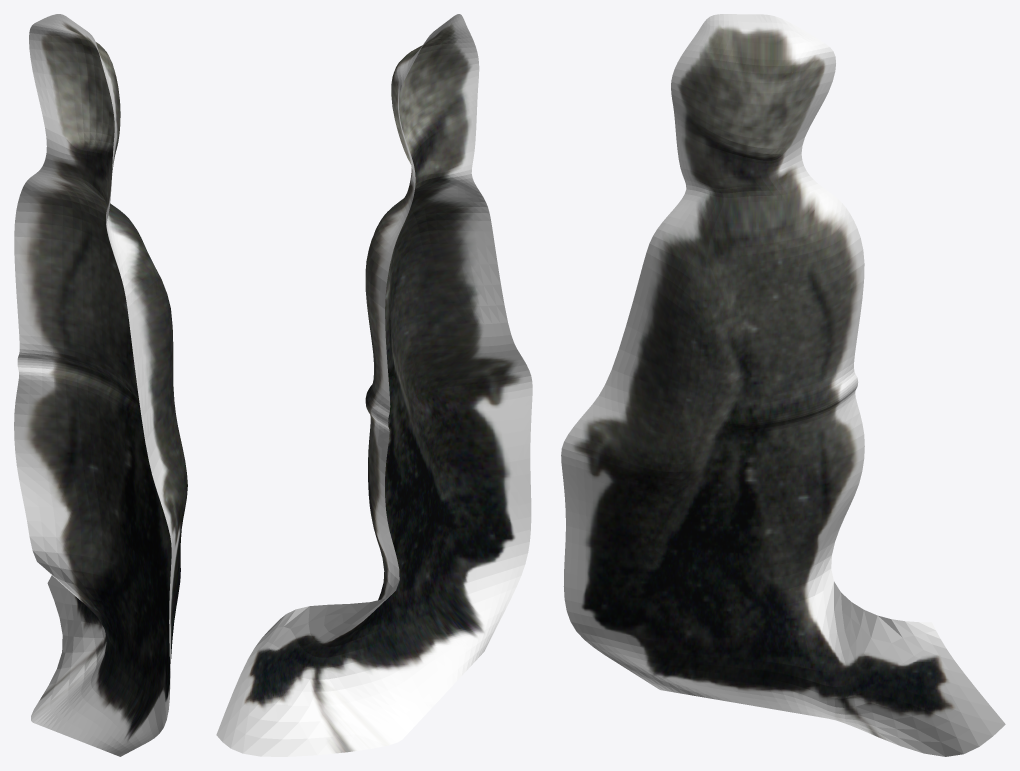
The model's file is Man_01_01.fbx.
3 renders of one model, left to right at view 1: azimuth 30°, elevation 25°; view 2: azimuth 150°, elevation 25°; view 3: azimuth 270°, elevation 25°, orthographic. The views are drawn at different scales.
Parts seen in each view (by area): view 1: Man_01; view 2: Man_01; view 3: Man_01.
Boxes of the visible parts, box(x1,y1,x2,y2) form: Man_01: box(14, 14, 187, 756); Man_01: box(216, 14, 532, 756); Man_01: box(561, 14, 1005, 756).
Size of the model in its own units: 0.5525 by 3.64 by 2.07.
1 material, 1 textured.
